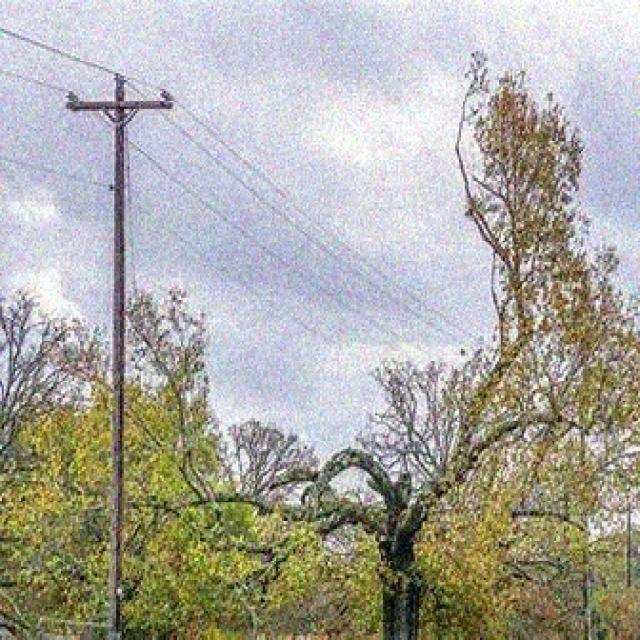utility poles: (62, 56, 176, 636)
